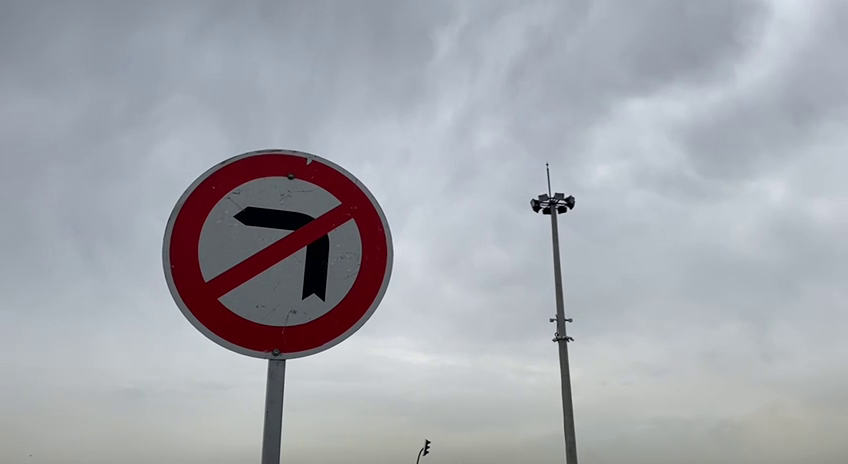noTurnLeft: (157, 143, 398, 366)
